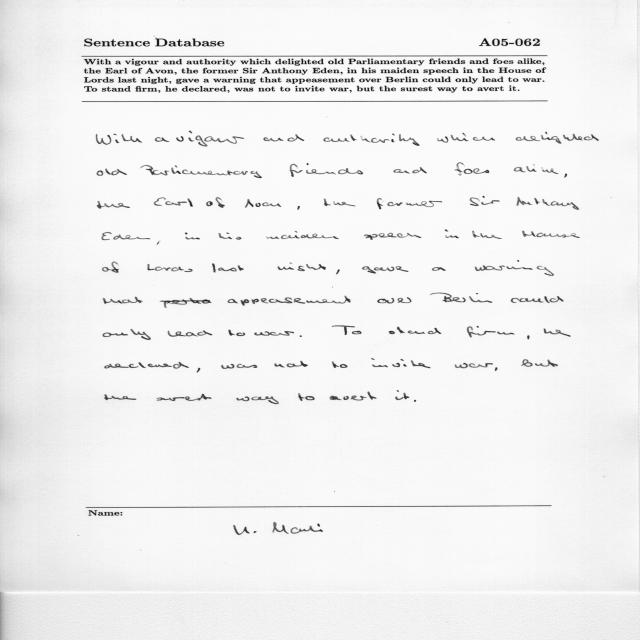word: (140, 165, 262, 178), (148, 242, 193, 272), (475, 260, 554, 276), (323, 133, 420, 146), (228, 296, 351, 306), (176, 131, 244, 147), (289, 163, 363, 177), (516, 132, 599, 144), (517, 197, 579, 210), (377, 198, 442, 209), (430, 293, 492, 303), (371, 359, 430, 369), (105, 362, 189, 369), (437, 133, 495, 143), (267, 231, 339, 239), (103, 329, 151, 340), (467, 326, 515, 337), (160, 298, 211, 308), (96, 134, 142, 145), (455, 163, 490, 176), (330, 392, 376, 401), (522, 231, 580, 238), (364, 233, 421, 240), (277, 263, 326, 271), (154, 197, 193, 207), (157, 394, 212, 401), (102, 232, 150, 240), (362, 266, 408, 274), (511, 296, 563, 303), (389, 327, 441, 334), (514, 166, 558, 174), (236, 396, 279, 404), (455, 363, 497, 371), (245, 199, 281, 208), (168, 330, 212, 337), (470, 196, 499, 206), (212, 264, 244, 273), (264, 135, 305, 142), (103, 297, 143, 304), (97, 201, 130, 209), (332, 326, 361, 335), (324, 199, 356, 207), (377, 297, 412, 304), (97, 168, 127, 176), (472, 231, 502, 239), (274, 361, 308, 368), (544, 329, 571, 337), (206, 197, 225, 208), (393, 167, 427, 173), (102, 261, 119, 273), (254, 331, 294, 336), (105, 394, 136, 400), (222, 364, 258, 369), (219, 233, 242, 240), (535, 360, 558, 367), (298, 393, 315, 401), (395, 391, 409, 400), (445, 230, 459, 238), (332, 361, 347, 368), (229, 330, 246, 336), (521, 359, 533, 367), (155, 137, 169, 142), (432, 267, 446, 271), (185, 237, 200, 239), (336, 270, 340, 275), (197, 368, 201, 373), (564, 174, 567, 178), (297, 206, 300, 210), (527, 336, 530, 340), (185, 233, 188, 235), (414, 400, 417, 402), (300, 335, 302, 337)
